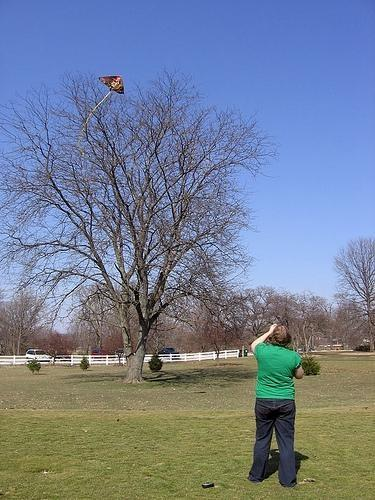car: (26, 348, 50, 359), (158, 348, 179, 354), (299, 346, 312, 350)
